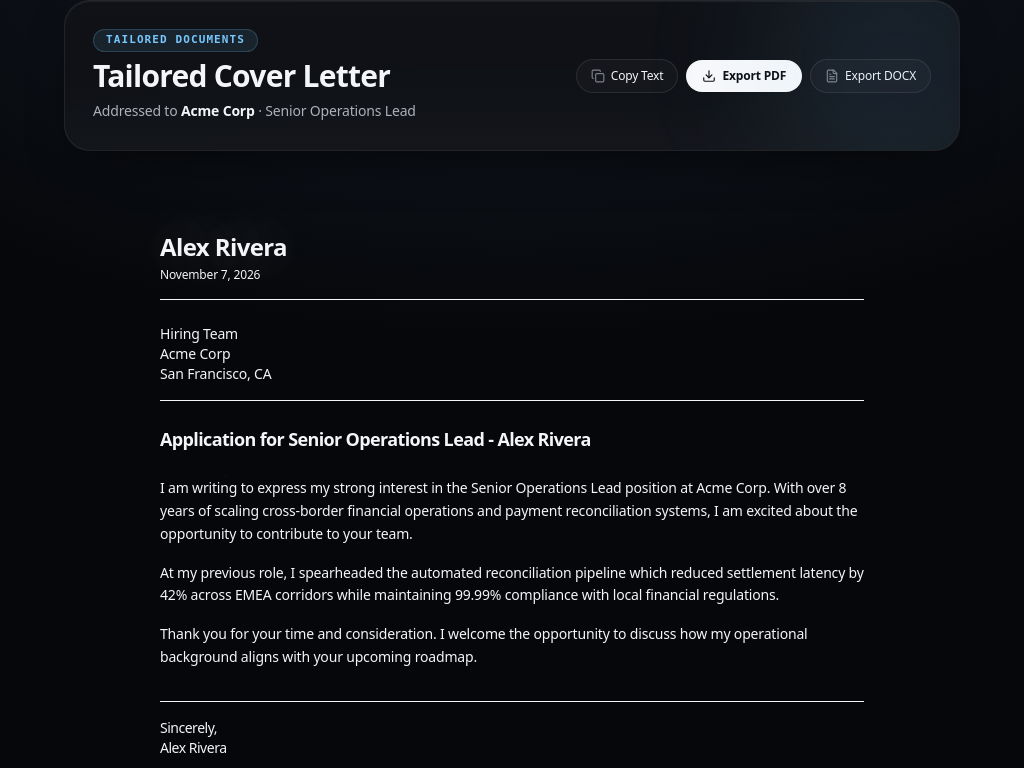
Scenario: Task 9: CoverLetterView PDF & DOCX Exports › triggers downloadCoverLetterAsPdf and displays success state
Click the button "Export PDF". click: (744, 76)
box: [686,60,802,92]
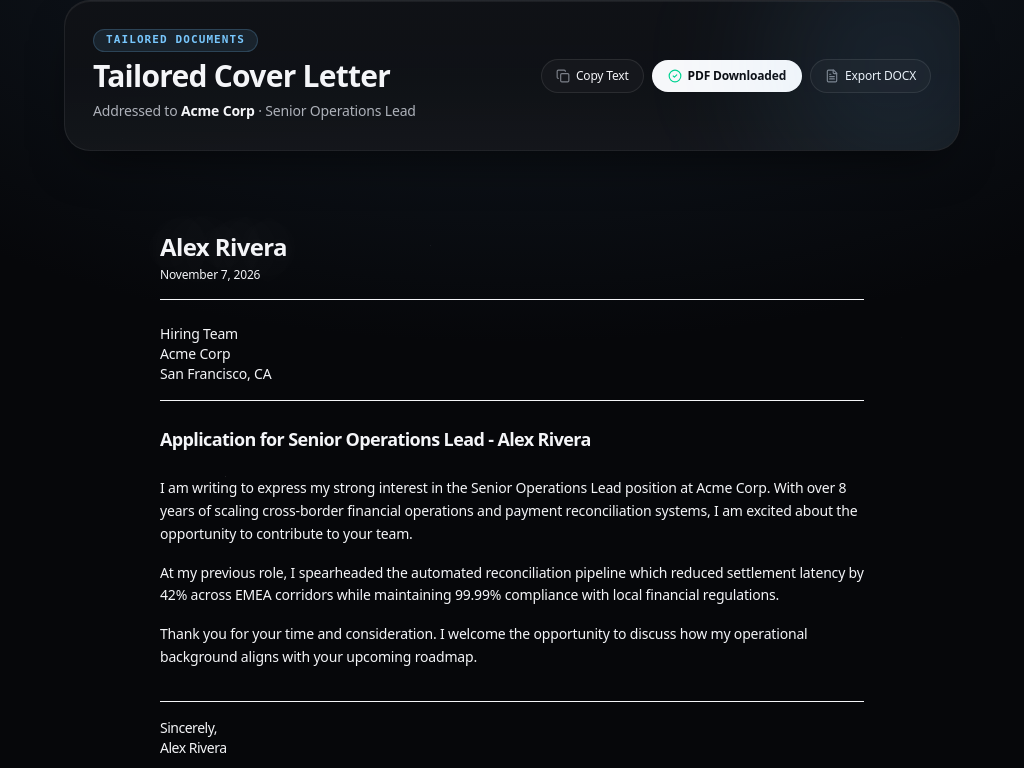
Result: the text "PDF Downloaded" is shown at [688,68,786,84]
